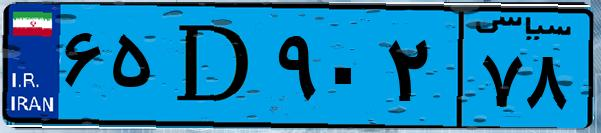0: (330, 28, 385, 110)
2: (385, 28, 445, 110)
5: (110, 28, 158, 98)
6: (57, 26, 110, 100)
7: (475, 38, 525, 113)
8: (525, 38, 570, 115)
9: (270, 28, 330, 110)
D: (158, 12, 270, 120)
